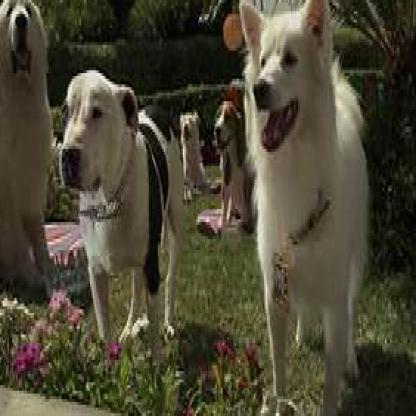dog: (236, 0, 370, 413), (62, 64, 186, 346), (2, 0, 54, 315), (211, 98, 243, 225), (177, 110, 202, 197)
